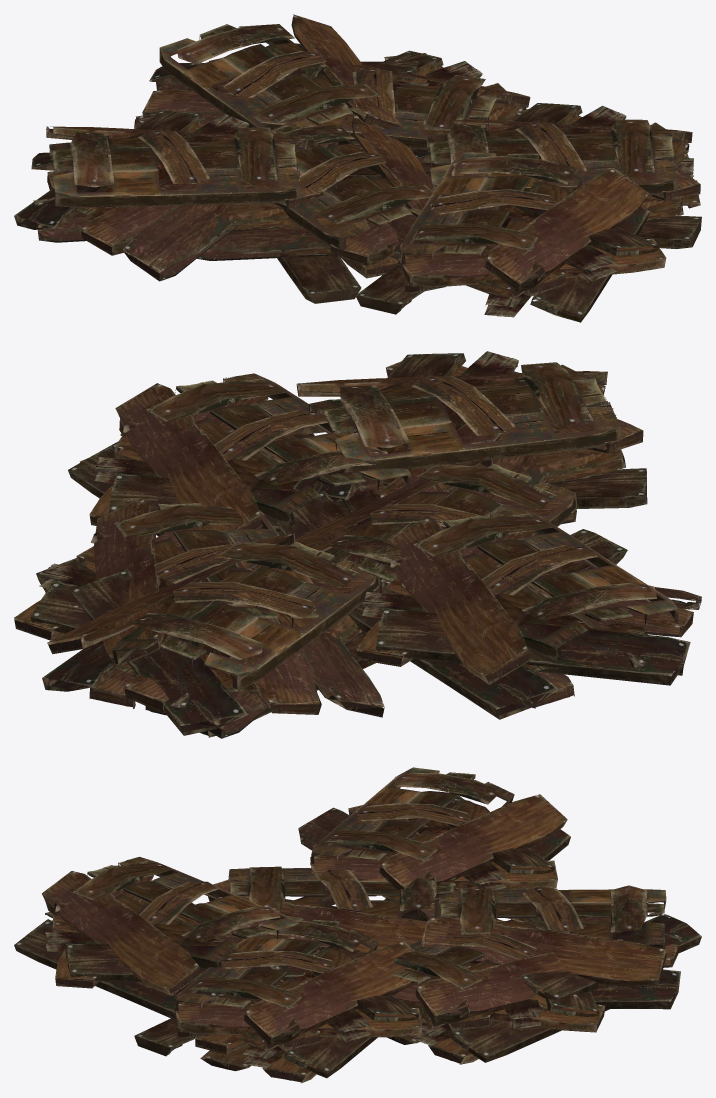
The picture shows the model from 3 angles, top to bottom: view 1: azimuth 30°, elevation 25°; view 2: azimuth 150°, elevation 25°; view 3: azimuth 270°, elevation 25°; orthographic projection. The views are drawn at different scales.
Parts seen in each view (by area): view 1: SM_Garou_Crate_05_Bundle_LOD0; view 2: SM_Garou_Crate_05_Bundle_LOD0; view 3: SM_Garou_Crate_05_Bundle_LOD0.
Boxes of the visible parts, x1,y1,x2,y2 form: SM_Garou_Crate_05_Bundle_LOD0: [14, 14, 701, 322]; SM_Garou_Crate_05_Bundle_LOD0: [14, 351, 701, 738]; SM_Garou_Crate_05_Bundle_LOD0: [14, 767, 701, 1083].
Bounding box in the file's own units: 3.63 × 0.5948 × 3.98.
Materials: 1 (1 with a texture image).
